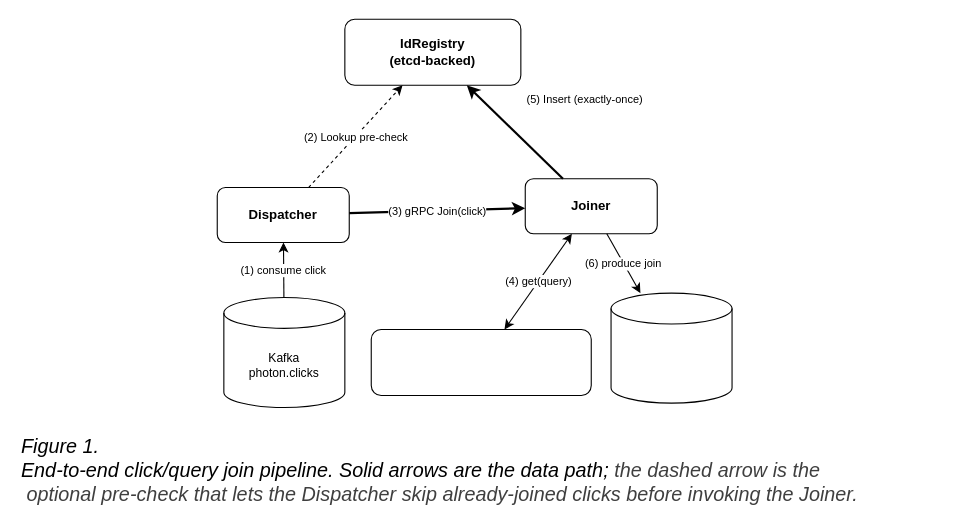
Some shapes in this 972 by 527 pixel diagram are drawn without their labels. The shapes that lost their labels are listed below. From the top down, each one's centre as x and y in pixels, then its label:
the point at 480,361: TieredEventStore Redis (L1) + HBase (L2)
the point at 671,347: Kafka joined-events
